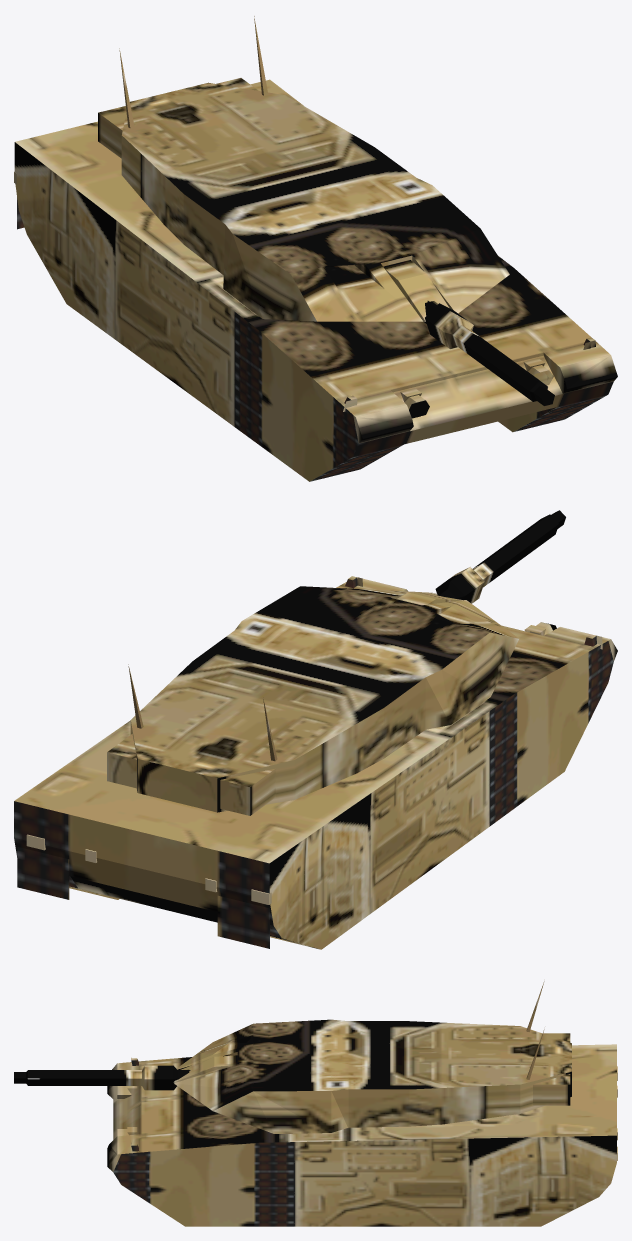
File: Leopard.dae
3 renders of one model, top to bottom at view 1: azimuth 30°, elevation 25°; view 2: azimuth 150°, elevation 25°; view 3: azimuth 270°, elevation 25°, orthographic. The views are drawn at different scales.
Parts seen in each view (by area): view 1: Hull, Turret, Barrel; view 2: Hull, Turret, Barrel, Red_Lights; view 3: Hull, Turret, Barrel.
Part boxes in pixels (x1,y1,x2,y2): Hull: (14, 79, 617, 481); Turret: (98, 16, 509, 321); Barrel: (424, 301, 554, 405); Hull: (14, 576, 617, 949); Turret: (107, 586, 518, 815); Barrel: (435, 510, 565, 603); Red_Lights: (26, 577, 602, 904); Hull: (107, 1044, 616, 1226); Turret: (173, 981, 571, 1133); Barrel: (14, 1065, 190, 1090).
Size of the model in its own units: 13.2 by 36.57 by 11.82.
Materials: 5 (5 with a texture image).
